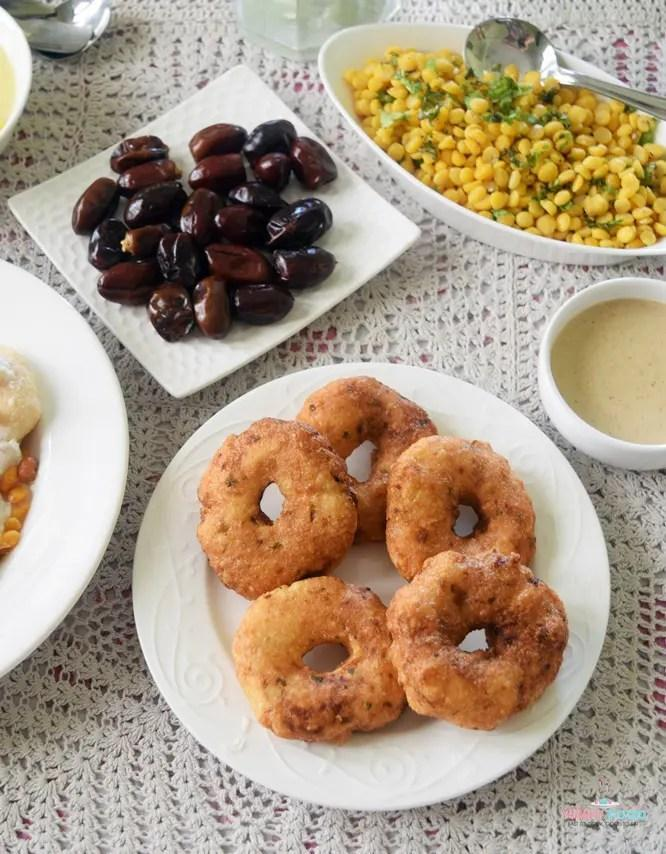mvada: (241, 436, 535, 721)
